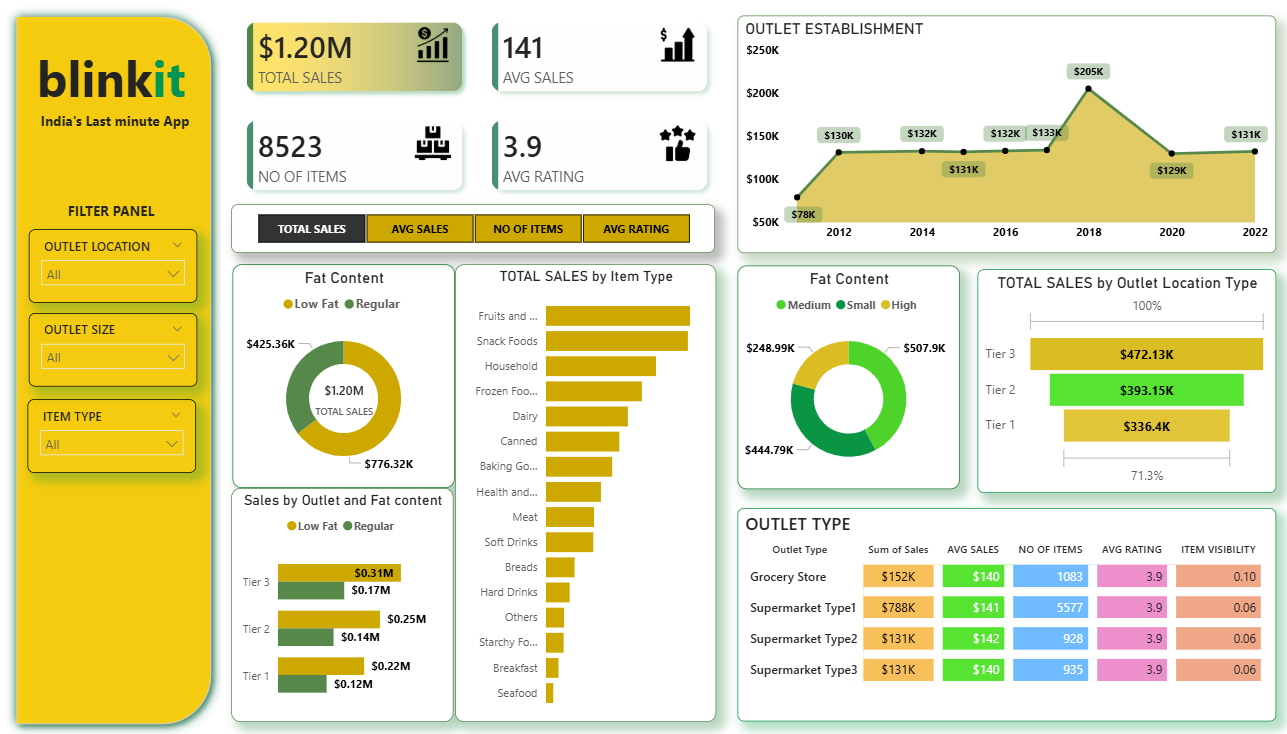

The dashboard page shown, as its layout file describes it:
{"tool":"powerbi","page":{"name":"HOME","canvas":[1400,800],"ordinal":0},"visuals":[{"type":"shape","box":[6.8,9.5,233.7,790.8],"z":0},{"type":"textbox","box":[6.8,44.8,228.3,91],"z":1000},{"type":"textbox","box":[39.4,118.2,195.7,35.3],"z":2000},{"type":"cardVisual","fields":{"Data":["BlinkIT Grocery Data.TOTAL SALES","BlinkIT Grocery Data.AVG SALES","BlinkIT Grocery Data.NUMBER OF ITEMS","BlinkIT Grocery Data.AVG RATING"]},"box":[251.4,9.5,535.3,216],"z":3000},{"type":"donutChart","title":"Fat Content","fields":{"Y":["BlinkIT Grocery Data.TOTAL SALES"],"Category":["BlinkIT Grocery Data.Item Fat Content"]},"box":[252.7,289.4,241.8,243.2],"z":4000},{"type":"slicer","fields":{"Values":["Parameter.Parameter"]},"box":[251.4,224.2,525.8,53],"z":5000},{"type":"card","fields":{"Values":["BlinkIT Grocery Data.TOTAL SALES"]},"box":[332.9,411.7,82.9,47.6],"z":6000},{"type":"clusteredBarChart","title":"Sales by Outlet and Fat content","fields":{"Y":["BlinkIT Grocery Data.TOTAL SALES"],"Category":["BlinkIT Grocery Data.Outlet Location Type"],"Series":["BlinkIT Grocery Data.Item Fat Content"]},"box":[251.4,532.6,241.8,254.1],"z":7000},{"type":"barChart","fields":{"Y":["BlinkIT Grocery Data.TOTAL SALES"],"Category":["BlinkIT Grocery Data.Item Type"]},"box":[494.6,289.4,284,497.3],"z":8000},{"type":"lineChart","title":"OUTLET ESTABLISHMENT","fields":{"Y":["BlinkIT Grocery Data.TOTAL SALES"],"Category":["BlinkIT Grocery Data.Outlet Establishment Year"]},"box":[801.6,19,585.6,258.2],"z":9000},{"type":"donutChart","title":"Fat Content","fields":{"Y":["BlinkIT Grocery Data.TOTAL SALES"],"Category":["BlinkIT Grocery Data.Outlet Size"]},"box":[801.6,290.8,241.8,243.2],"z":10000},{"type":"funnel","fields":{"Y":["BlinkIT Grocery Data.TOTAL SALES"],"Category":["BlinkIT Grocery Data.Outlet Location Type"]},"box":[1062.5,294.8,324.7,243.2],"z":11000},{"type":"pivotTable","title":"OUTLET TYPE","fields":{"Values":["Sum(BlinkIT Grocery Data.Sales)","BlinkIT Grocery Data.AVG SALES","BlinkIT Grocery Data.NO OF ITEMS","BlinkIT Grocery Data.AVG RATING","Avg(BlinkIT Grocery Data.Item Visibility)"],"Rows":["BlinkIT Grocery Data.Outlet Type"]},"box":[801.6,554.4,585.6,232.3],"z":12000},{"type":"slicer","fields":{"Values":["BlinkIT Grocery Data.Outlet Location Type"]},"box":[31.3,251.4,183.4,80.2],"z":13000},{"type":"slicer","fields":{"Values":["BlinkIT Grocery Data.Outlet Size"]},"box":[31.3,342.4,183.4,80.2],"z":14000},{"type":"slicer","fields":{"Values":["BlinkIT Grocery Data.Item Type"]},"box":[29.9,436.1,183.4,80.2],"z":15000},{"type":"textbox","box":[63.9,216,114.1,35.3],"z":16000}]}

Visuals, with their boxes in screenshot pixels (x1, y1, x2, y2), scaled from the page's 1400x800 canvas onto the 1287x734 screenshot:
shape: x1=6 y1=9 x2=221 y2=733
textbox: x1=6 y1=41 x2=216 y2=125
textbox: x1=36 y1=108 x2=216 y2=141
cardVisual - BlinkIT Grocery Data.TOTAL SALES x BlinkIT Grocery Data.AVG SALES: x1=231 y1=9 x2=723 y2=207
"Fat Content" donutChart: x1=232 y1=266 x2=455 y2=489
slicer - Parameter.Parameter: x1=231 y1=206 x2=714 y2=254
card - BlinkIT Grocery Data.TOTAL SALES: x1=306 y1=378 x2=382 y2=421
"Sales by Outlet and Fat content" clusteredBarChart: x1=231 y1=489 x2=453 y2=722
barChart - BlinkIT Grocery Data.TOTAL SALES x BlinkIT Grocery Data.Item Type: x1=455 y1=266 x2=716 y2=722
"OUTLET ESTABLISHMENT" lineChart: x1=737 y1=17 x2=1275 y2=254
"Fat Content" donutChart: x1=737 y1=267 x2=959 y2=490
funnel - BlinkIT Grocery Data.TOTAL SALES x BlinkIT Grocery Data.Outlet Location Type: x1=977 y1=270 x2=1275 y2=494
"OUTLET TYPE" pivotTable: x1=737 y1=509 x2=1275 y2=722
slicer - BlinkIT Grocery Data.Outlet Location Type: x1=29 y1=231 x2=197 y2=304
slicer - BlinkIT Grocery Data.Outlet Size: x1=29 y1=314 x2=197 y2=388
slicer - BlinkIT Grocery Data.Item Type: x1=27 y1=400 x2=196 y2=474
textbox: x1=59 y1=198 x2=164 y2=231
